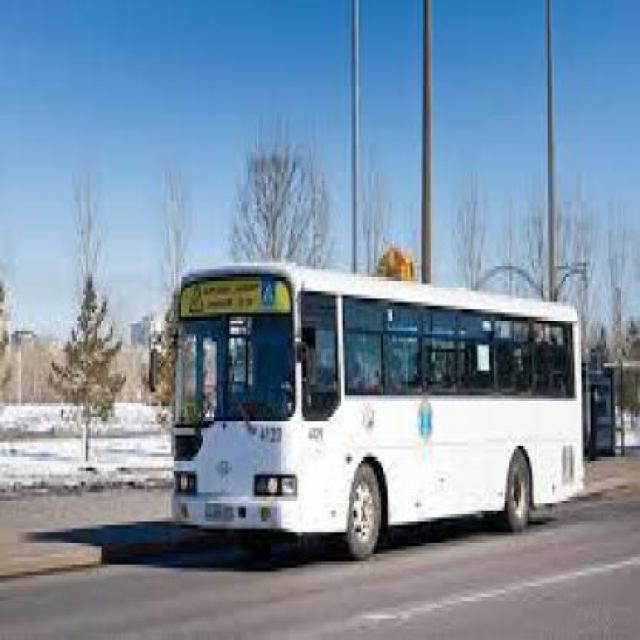bus: (171, 264, 588, 562)
